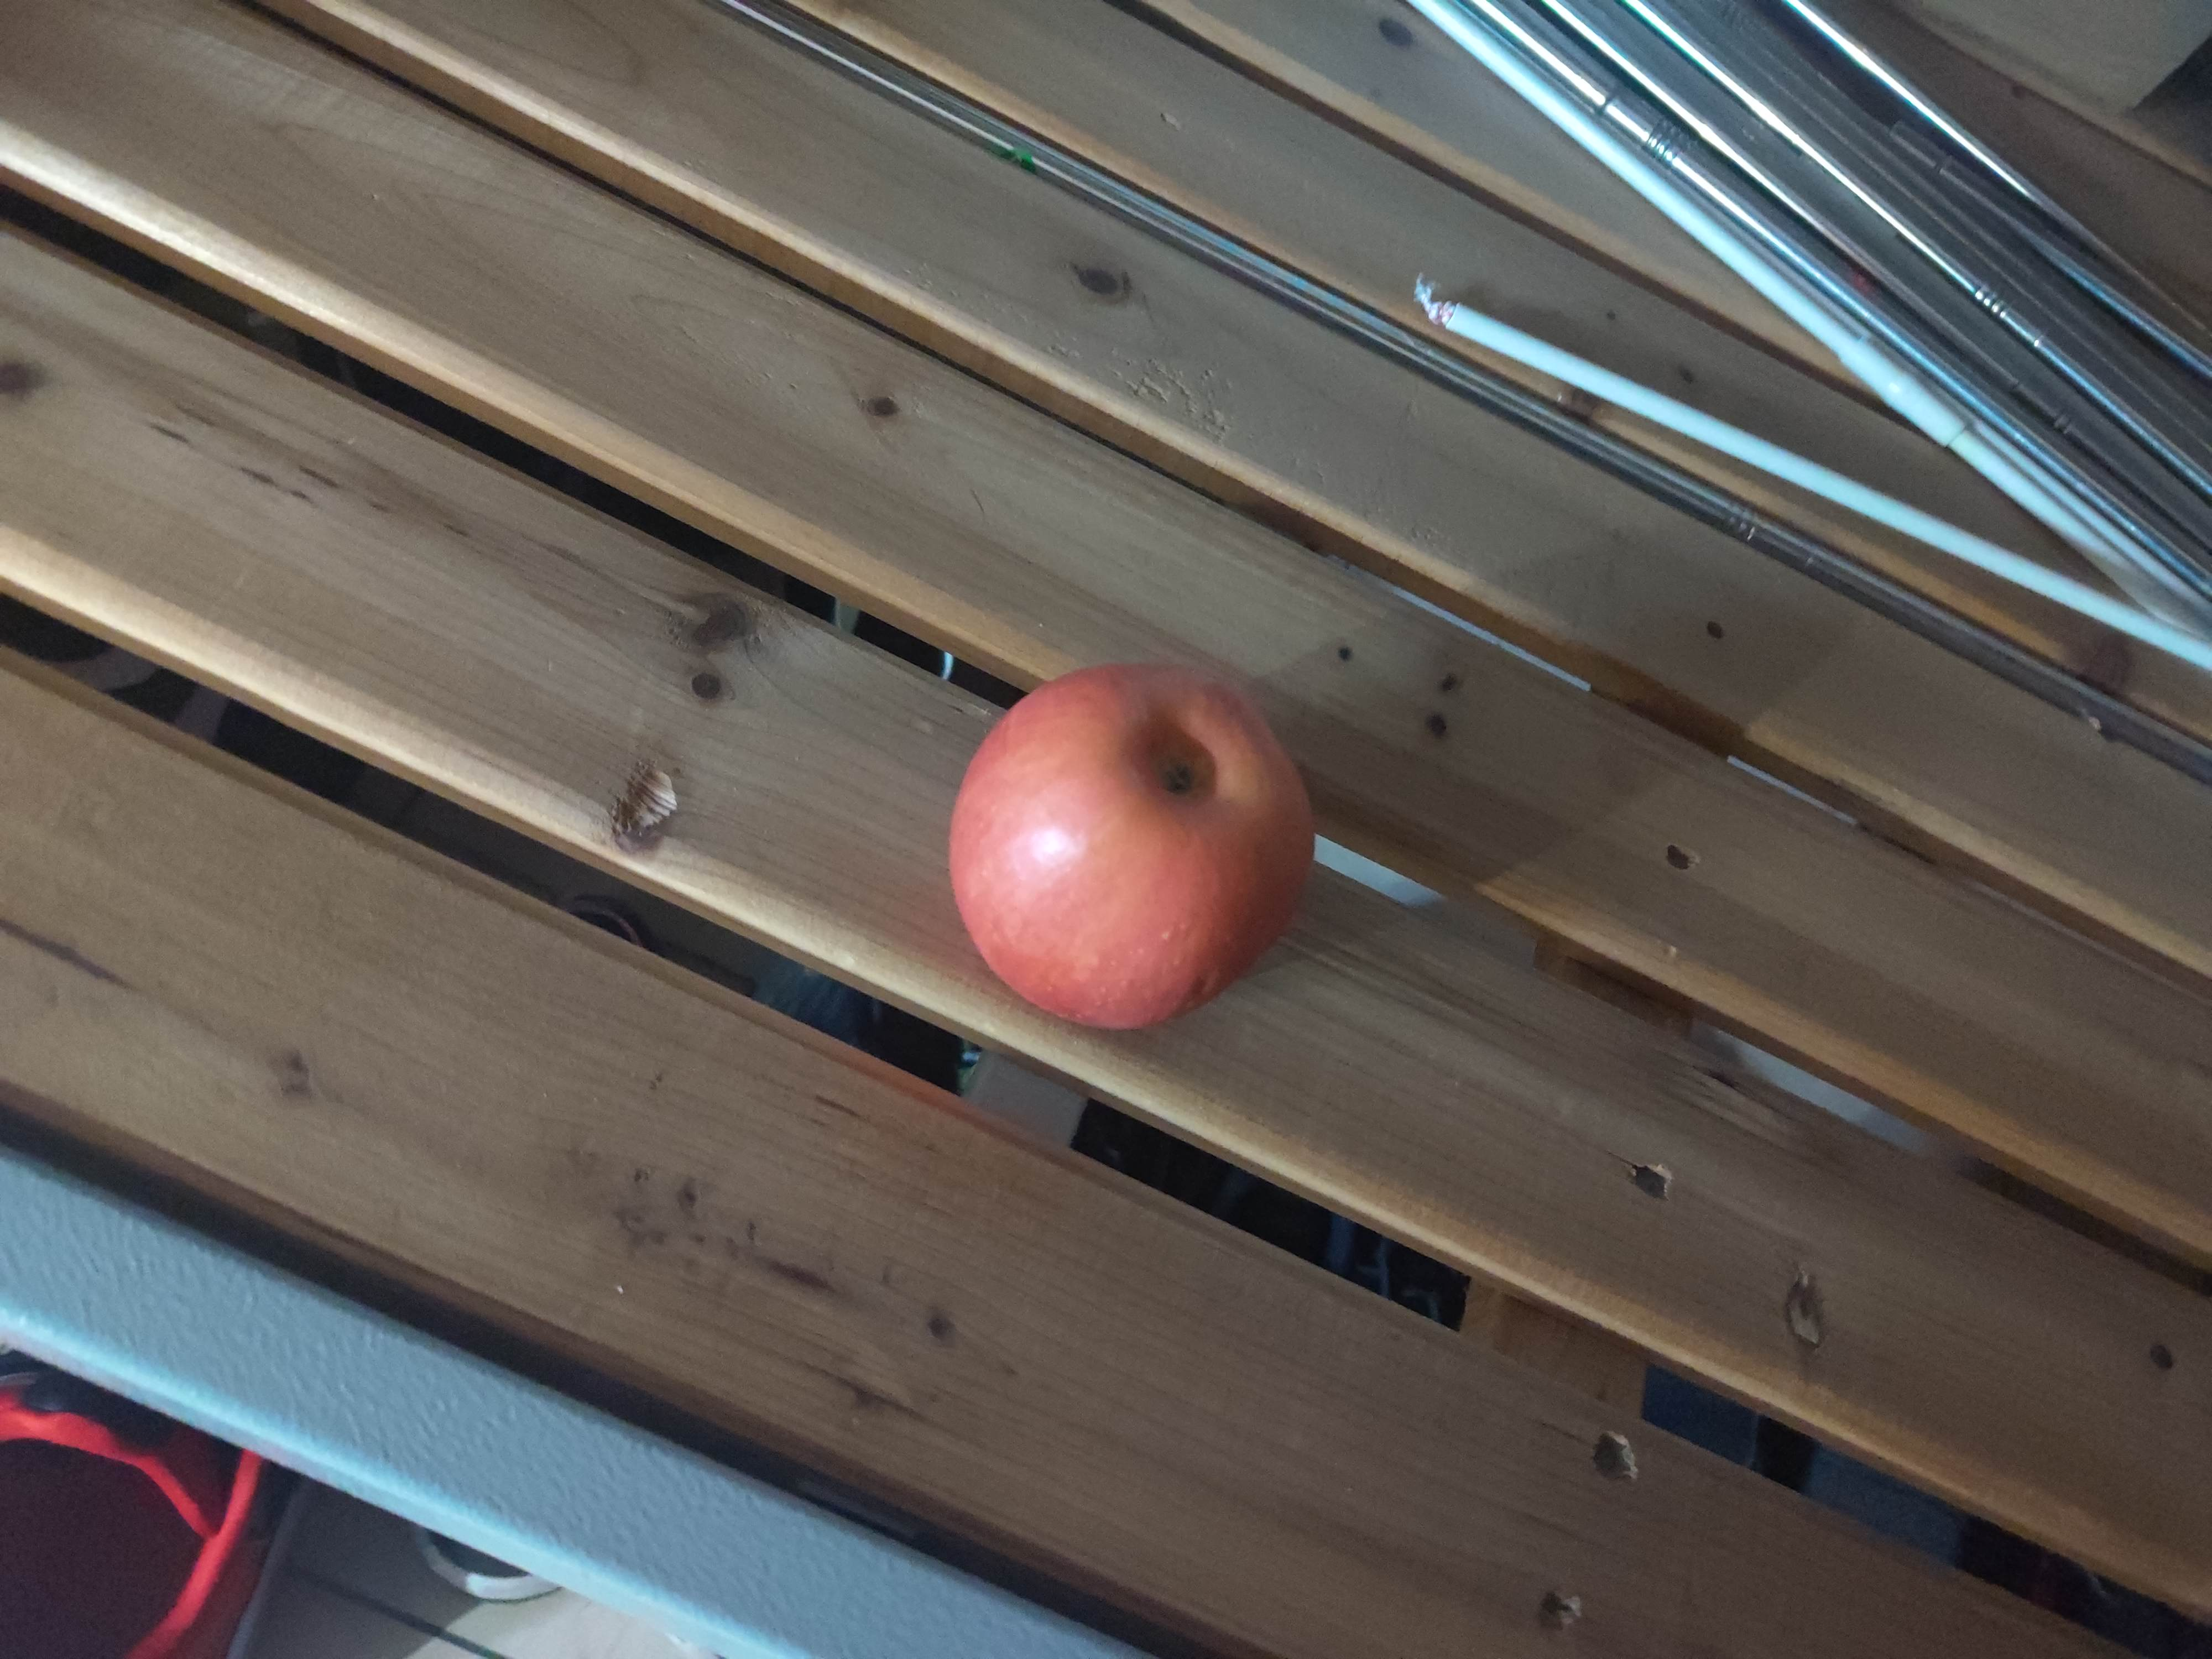apple: (941, 657, 1317, 1035)
